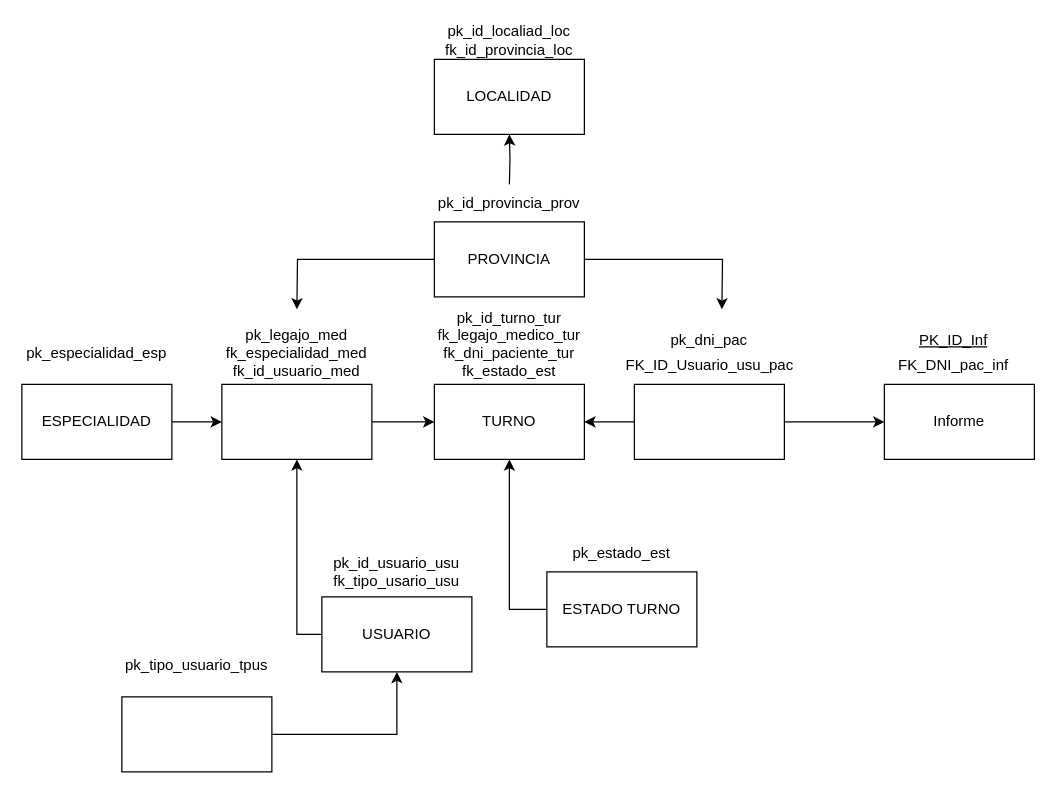
The diagram is 1056 pixels wide and 794 high, and some of its shapes have lost their labels. Here are the shapes that lost their labels. From the top down, the centre of each, then its label:
At [296,421]: "MEDICO".
At [708,421]: "PACIENTE".
At [196,734]: "TIPO USUARIO".
